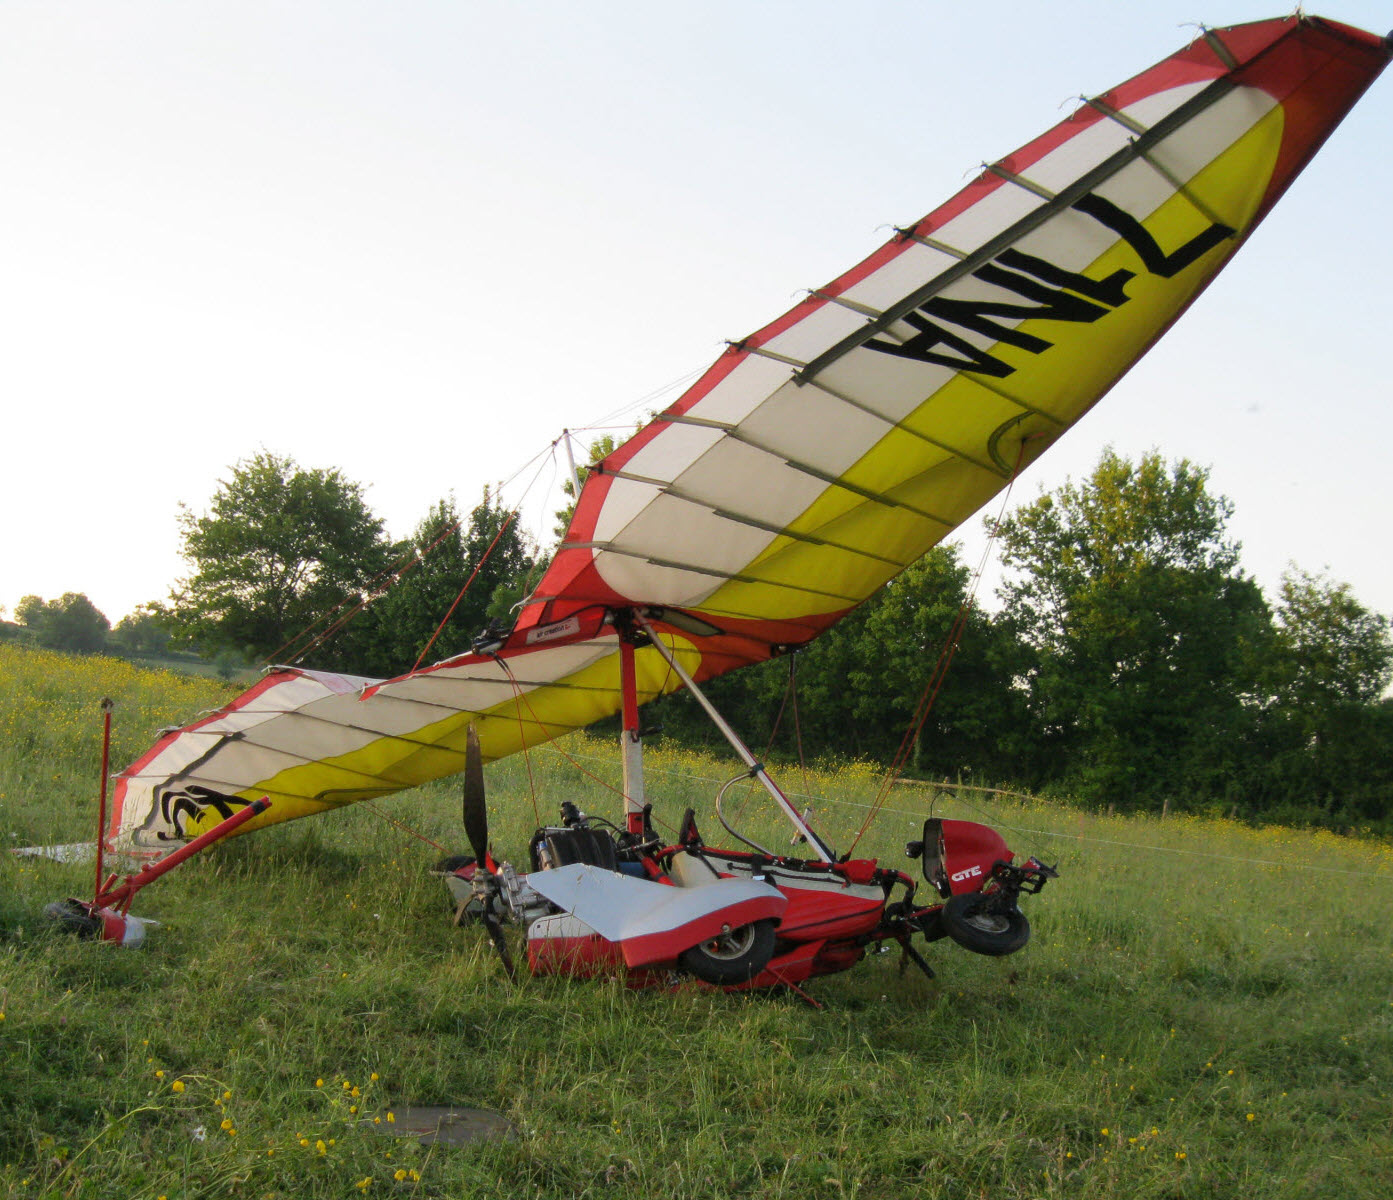Aeronef_de_loisir: (12, 9, 1393, 1029)
